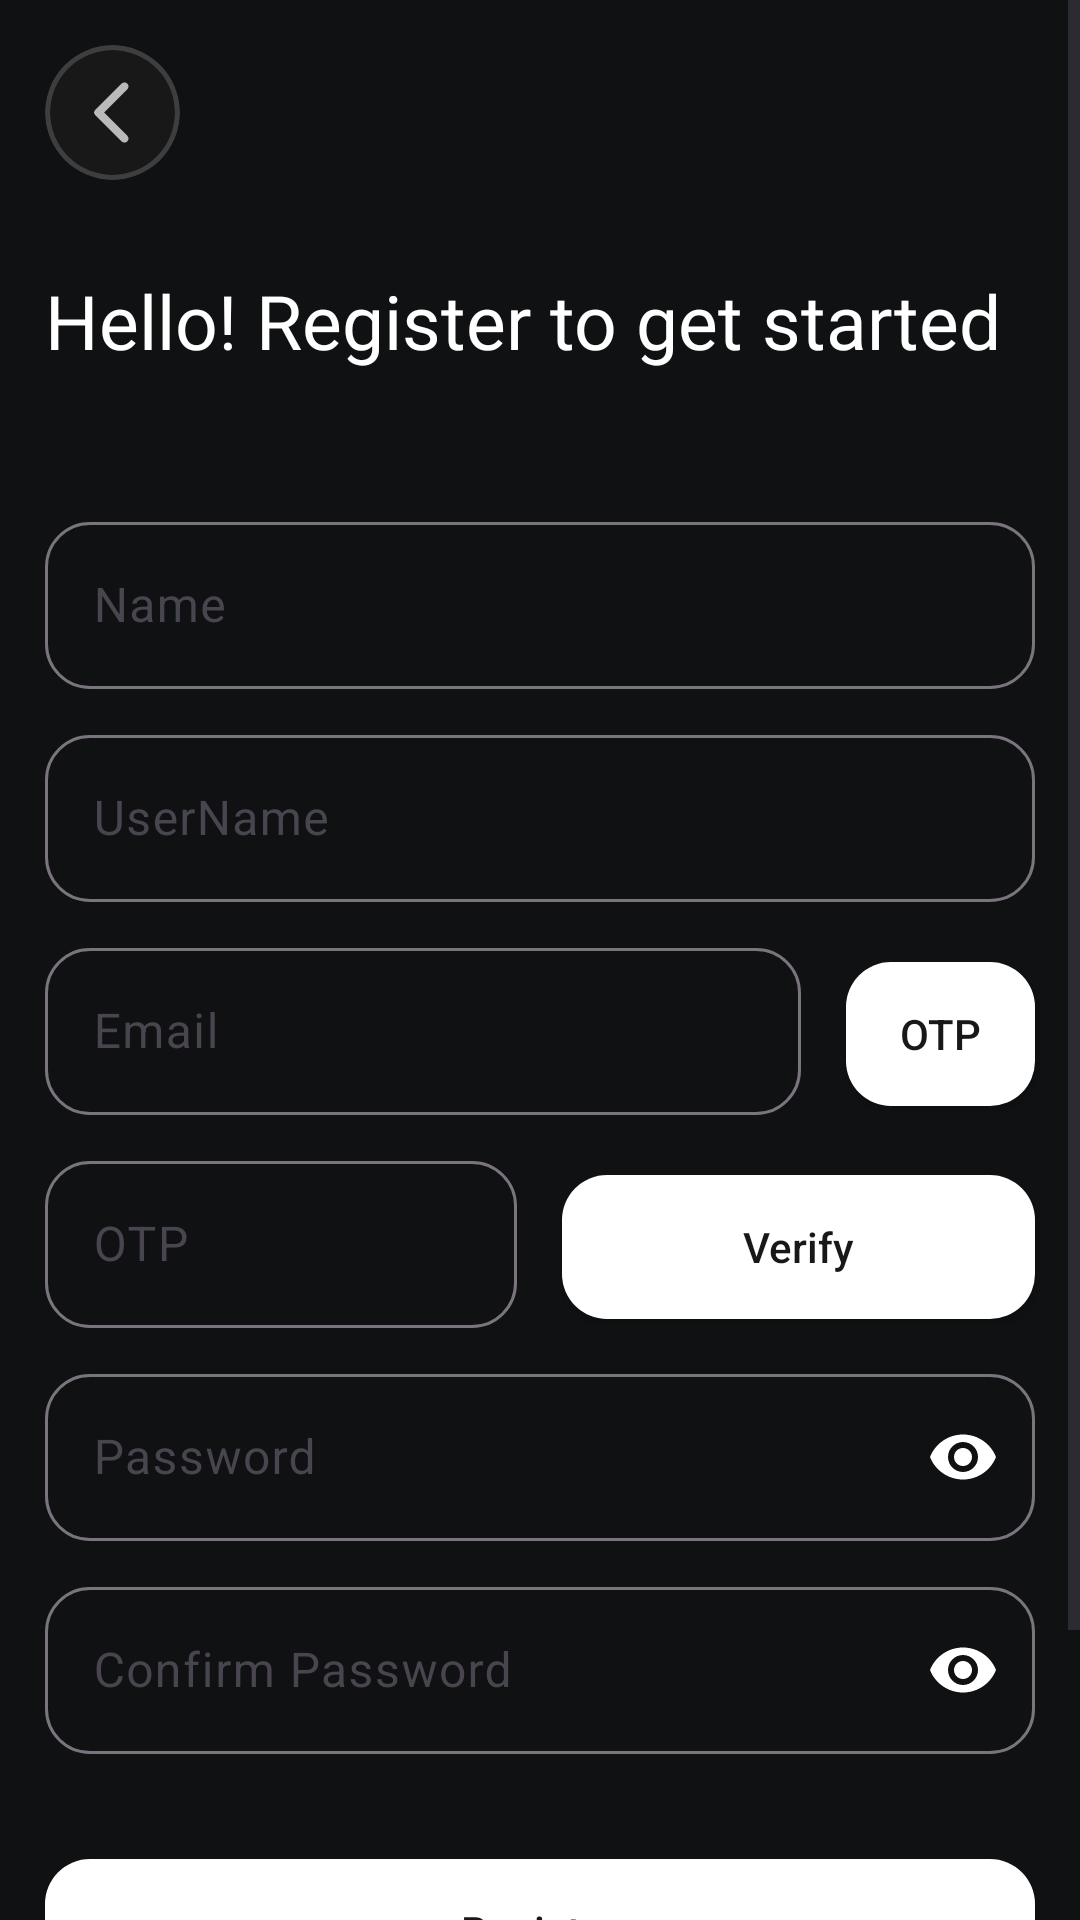

Screen size 1080x1920. Icon name, then its center in pixels as [x,y]:
back: [111,112]
